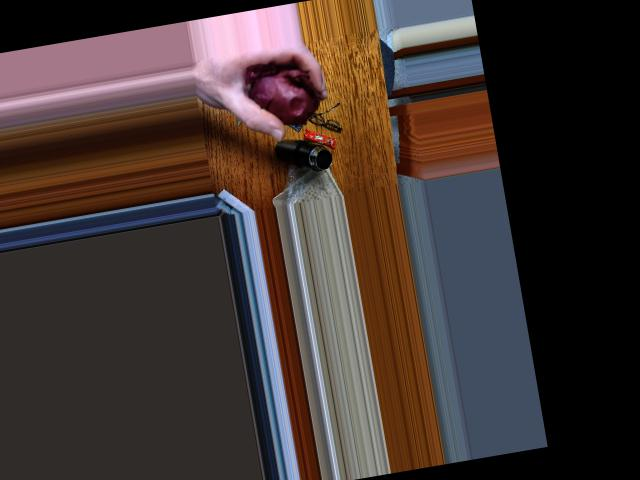onion: (239, 57, 330, 123)
